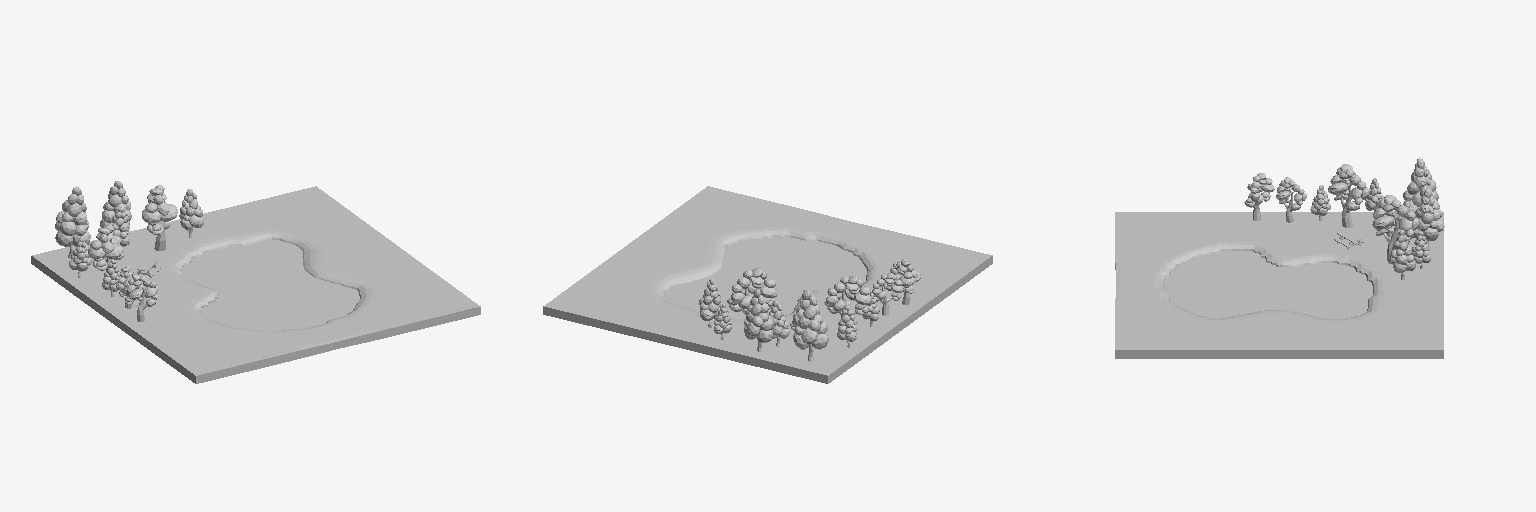
File: Ground.obj
The picture shows the model from 3 angles: view 1: azimuth 30°, elevation 25°; view 2: azimuth 150°, elevation 25°; view 3: azimuth 270°, elevation 25°; orthographic projection.
Parts seen in each view (by area): view 1: Ground_Grid, Water_Grid.001, Poplar_Cylinder.006_Poplar_Cylinder.007, Oak_Cylinder.002, Oak_Cylinder.001, Oak_Cylinder.000, Poplar_Cylinder.005_Poplar_Cylinder.006, Poplar_Cylinder.001; view 2: Ground_Grid, Water_Grid.001, Poplar_Cylinder.006_Poplar_Cylinder.007, Oak_Cylinder.002, Oak_Cylinder.001, Poplar_Cylinder.005_Poplar_Cylinder.006, Oak_Cylinder.004, Oak_Cylinder.000, Poplar_Cylinder.001, Poplar_Cylinder.004, Poplar_Cylinder.003; view 3: Ground_Grid, Water_Grid.001, Oak_Cylinder.002, Oak_Cylinder.001, Poplar_Cylinder.005_Poplar_Cylinder.006, Poplar_Cylinder.006_Poplar_Cylinder.007, Poplar_Cylinder.001, Oak_Cylinder.000, Oak_Cylinder.004.
Boxes of the visible parts, <box> form: Ground_Grid: <box>31,186,480,383</box>; Water_Grid.001: <box>182,240,359,330</box>; Poplar_Cylinder.006_Poplar_Cylinder.007: <box>55,187,90,257</box>; Oak_Cylinder.002: <box>142,185,177,250</box>; Oak_Cylinder.001: <box>88,225,123,271</box>; Oak_Cylinder.000: <box>123,274,158,321</box>; Poplar_Cylinder.005_Poplar_Cylinder.006: <box>100,181,131,230</box>; Poplar_Cylinder.001: <box>179,189,203,237</box>; Ground_Grid: <box>543,186,992,383</box>; Water_Grid.001: <box>664,237,866,319</box>; Poplar_Cylinder.006_Poplar_Cylinder.007: <box>793,289,828,361</box>; Oak_Cylinder.002: <box>727,268,777,314</box>; Oak_Cylinder.001: <box>824,276,871,314</box>; Poplar_Cylinder.005_Poplar_Cylinder.006: <box>744,289,773,351</box>; Oak_Cylinder.004: <box>872,273,903,315</box>; Oak_Cylinder.000: <box>890,259,920,304</box>; Poplar_Cylinder.001: <box>699,278,721,327</box>; Poplar_Cylinder.004: <box>837,306,857,347</box>; Poplar_Cylinder.003: <box>769,300,789,346</box>; Ground_Grid: <box>1115,212,1443,358</box>; Water_Grid.001: <box>1164,251,1372,318</box>; Oak_Cylinder.002: <box>1372,195,1419,263</box>; Oak_Cylinder.001: <box>1328,164,1369,227</box>; Poplar_Cylinder.005_Poplar_Cylinder.006: <box>1412,188,1444,249</box>; Poplar_Cylinder.006_Poplar_Cylinder.007: <box>1403,158,1438,211</box>; Poplar_Cylinder.001: <box>1389,230,1415,279</box>; Oak_Cylinder.000: <box>1244,173,1274,220</box>; Oak_Cylinder.004: <box>1276,177,1306,222</box>.
Bounding box in the file's own units: 60 × 17.82 × 60.05.